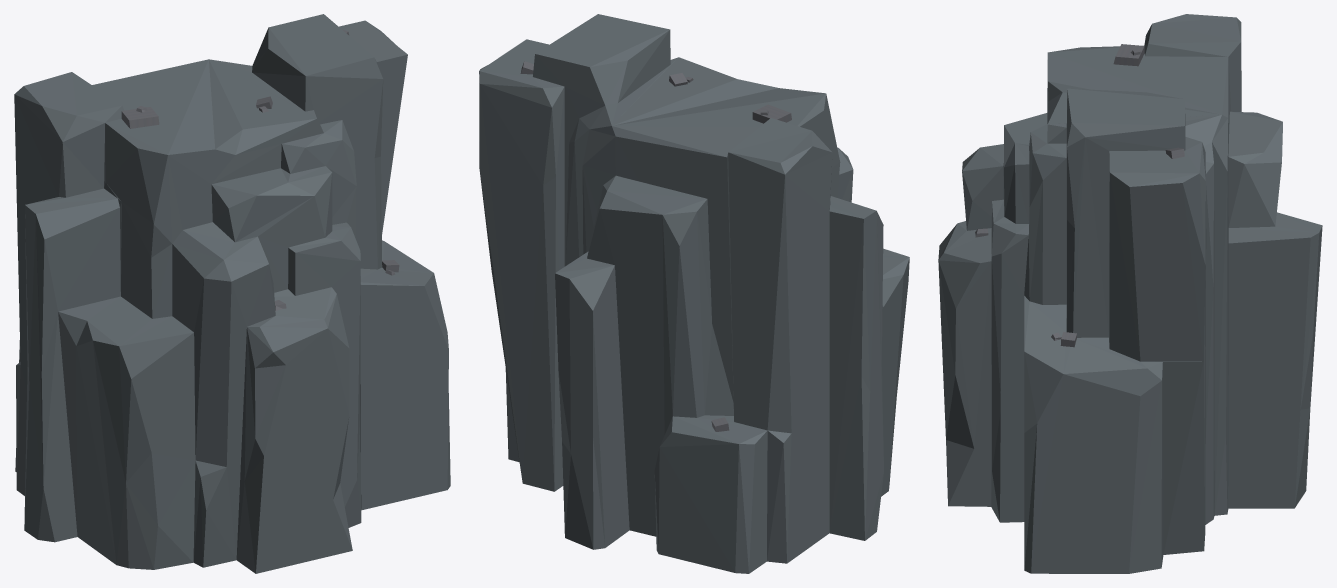
File: Rock_Big_1.fbx
The picture shows the model from 3 angles, left to right: view 1: azimuth 30°, elevation 25°; view 2: azimuth 150°, elevation 25°; view 3: azimuth 270°, elevation 25°; orthographic projection.
Parts seen in each view (by area): view 1: polySurface10321; view 2: polySurface10321; view 3: polySurface10321.
Boxes of the visible parts, x1,y1,x2,y2 form: polySurface10321: (14,14,450,573); polySurface10321: (479,14,909,573); polySurface10321: (938,14,1322,573).
Size of the model in its own units: 595 by 652 by 535.
